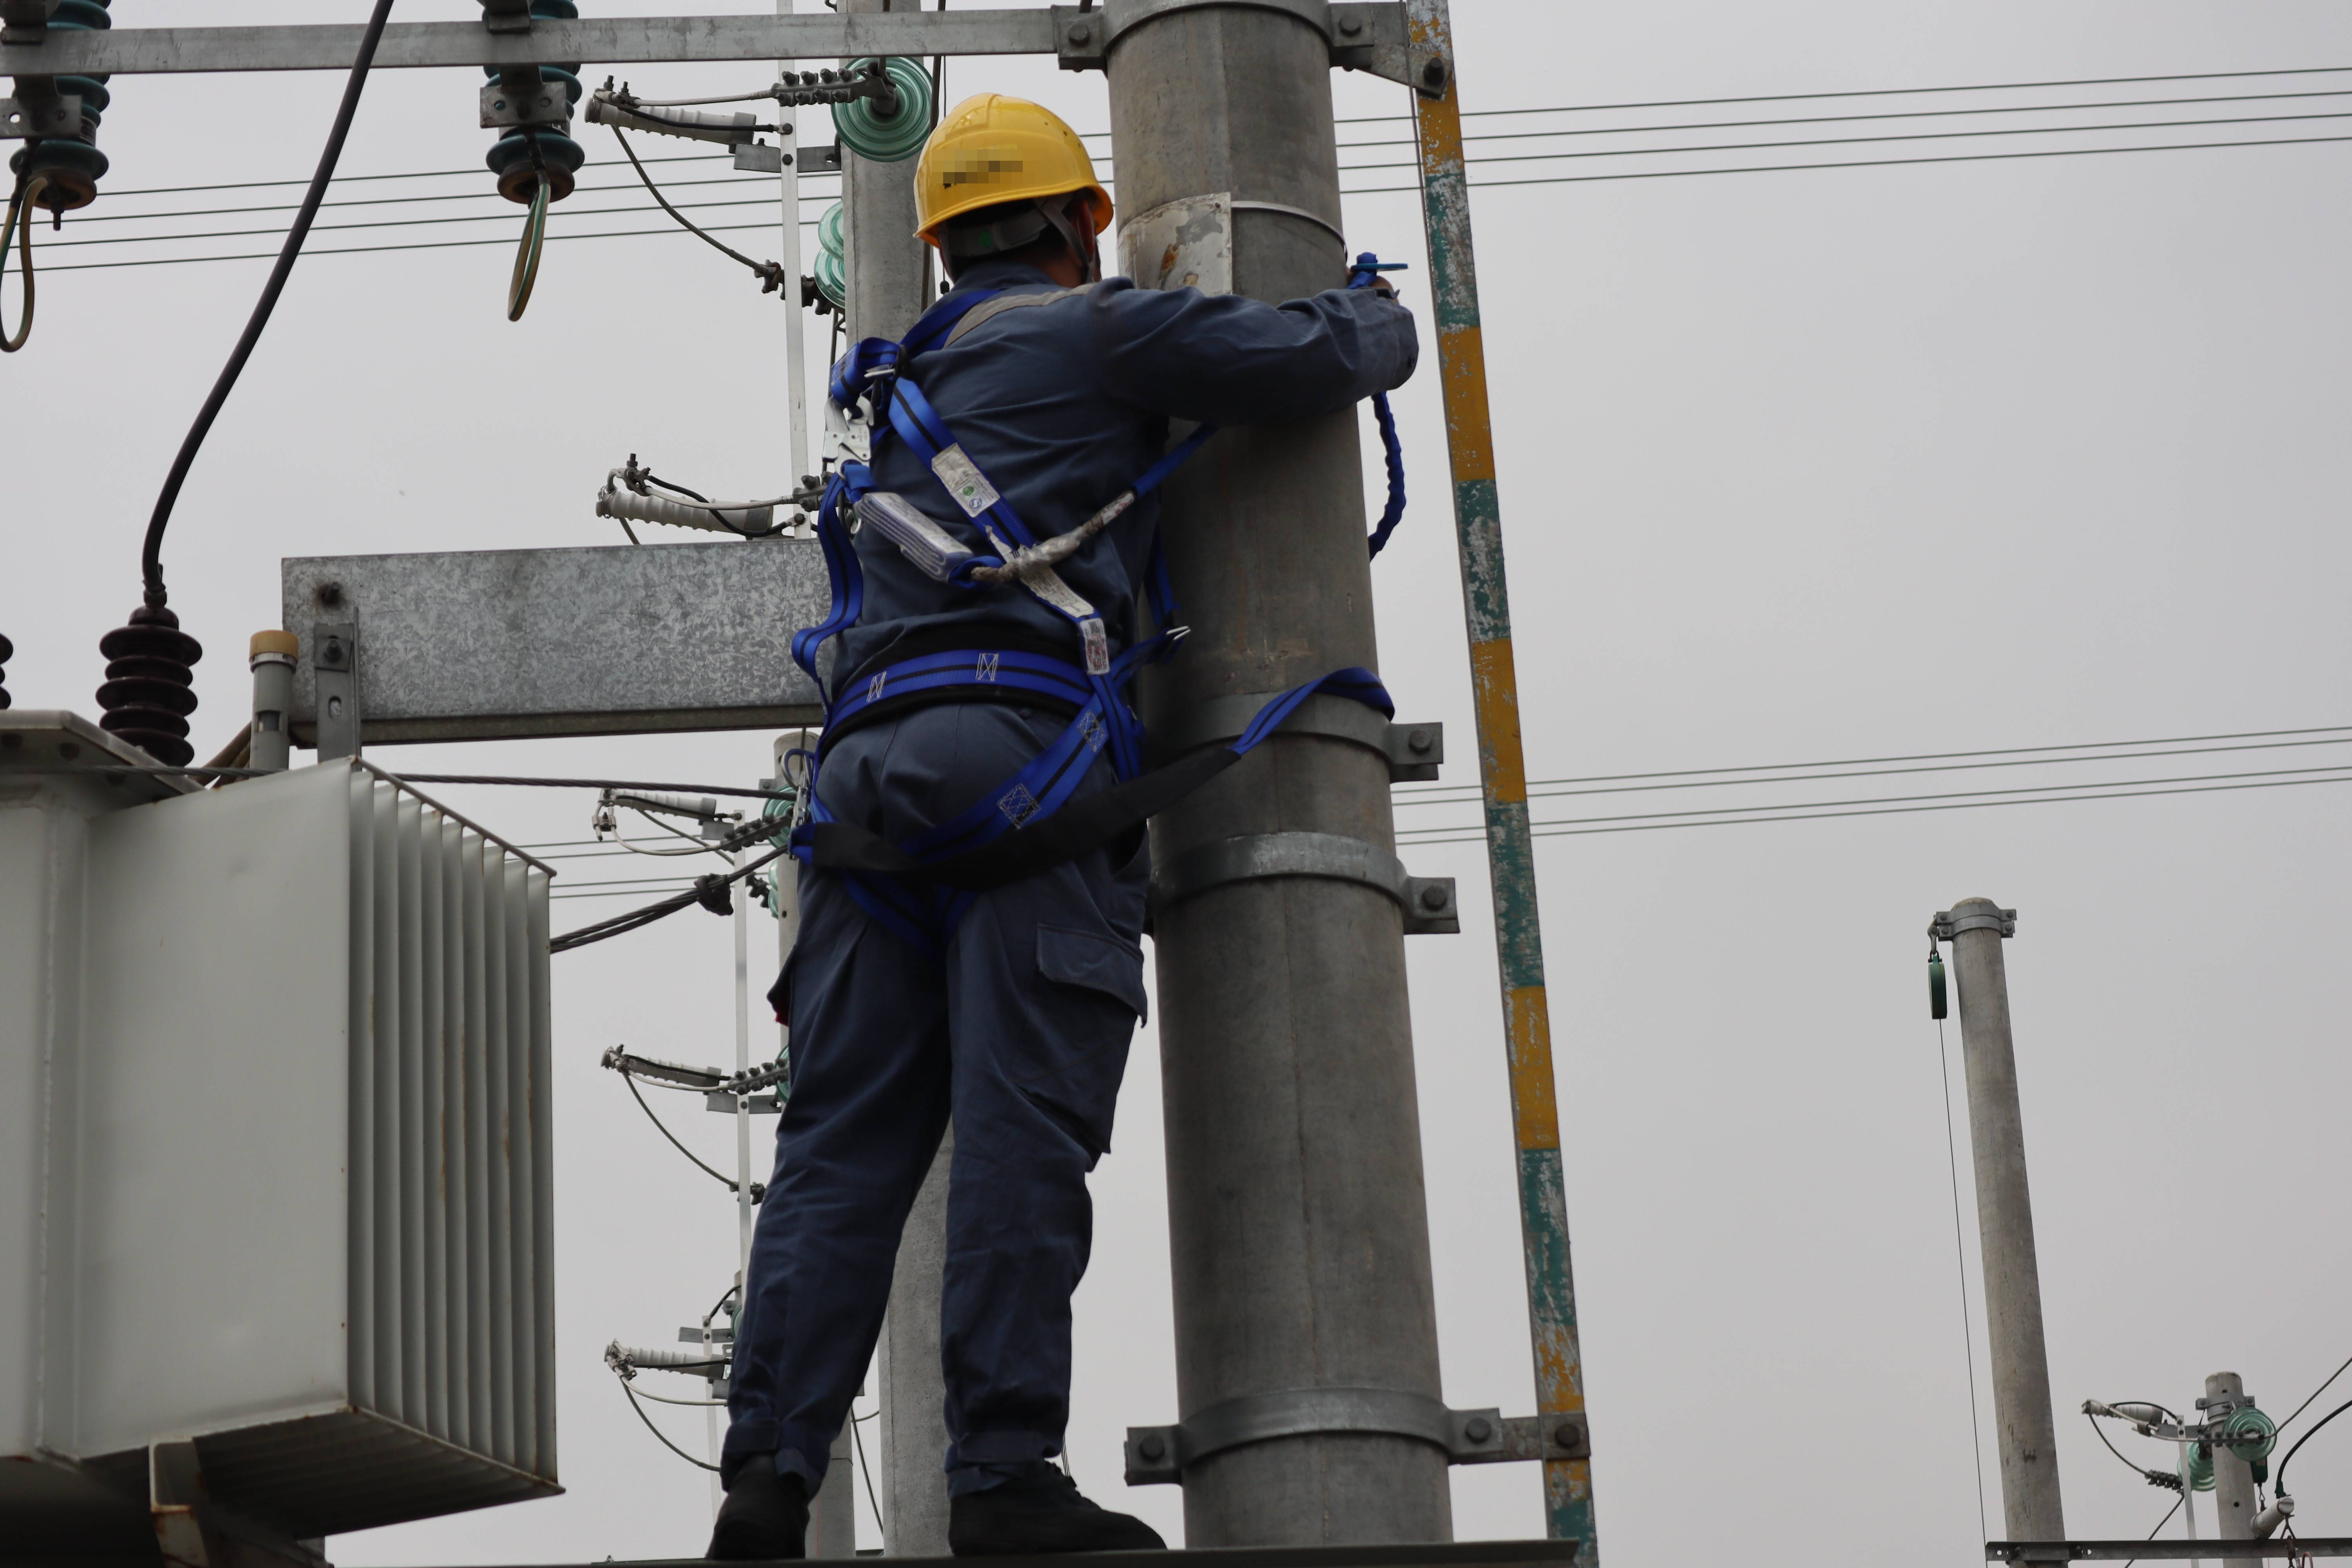downsuit: (712, 709, 1160, 1493)
upsuit: (821, 268, 1402, 686)
